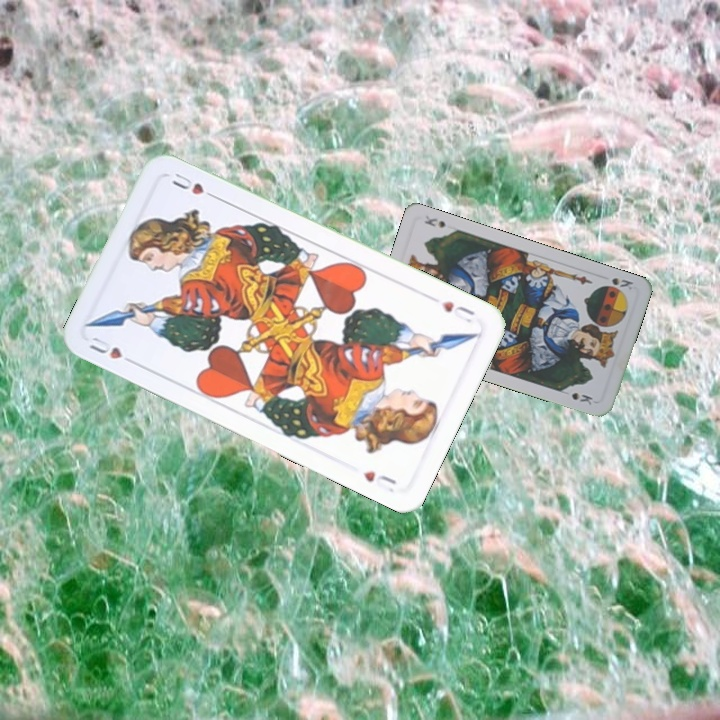HU: (85, 332, 140, 368), (437, 296, 477, 326)
SK: (608, 273, 636, 292)
